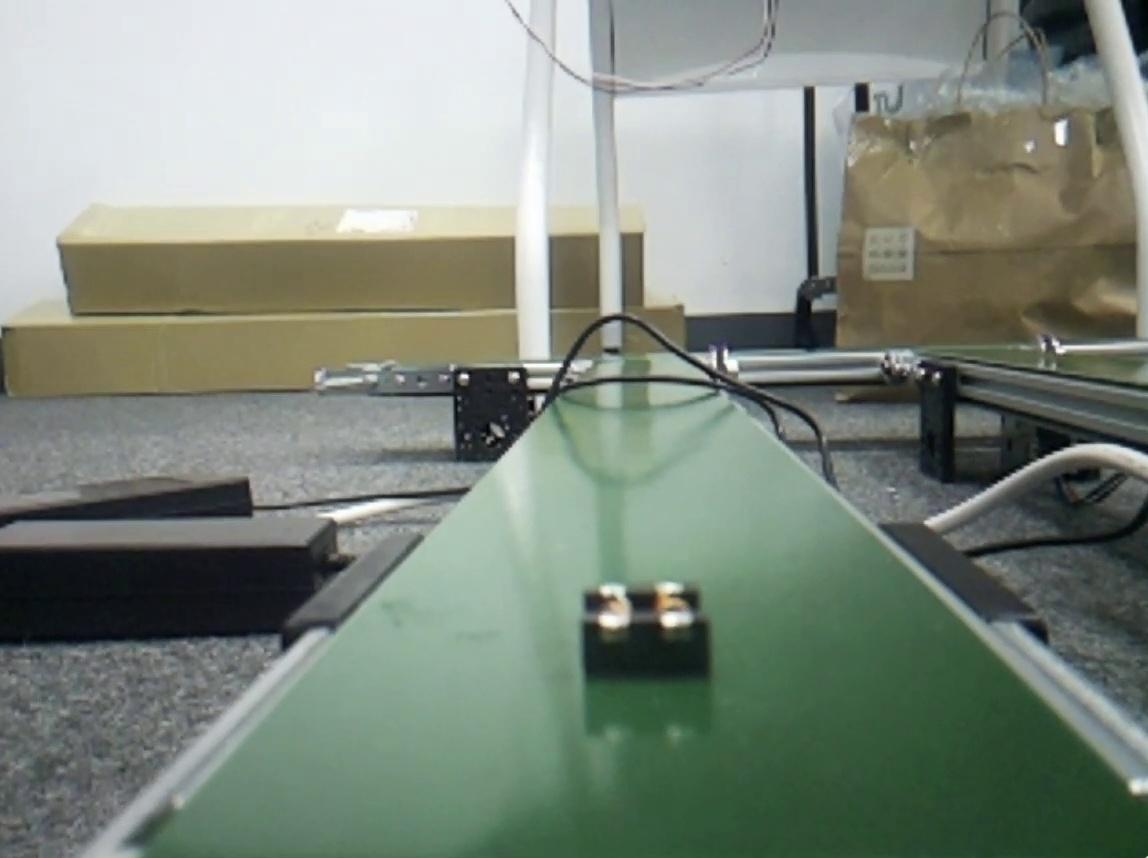inductor: (580, 582, 712, 679)
